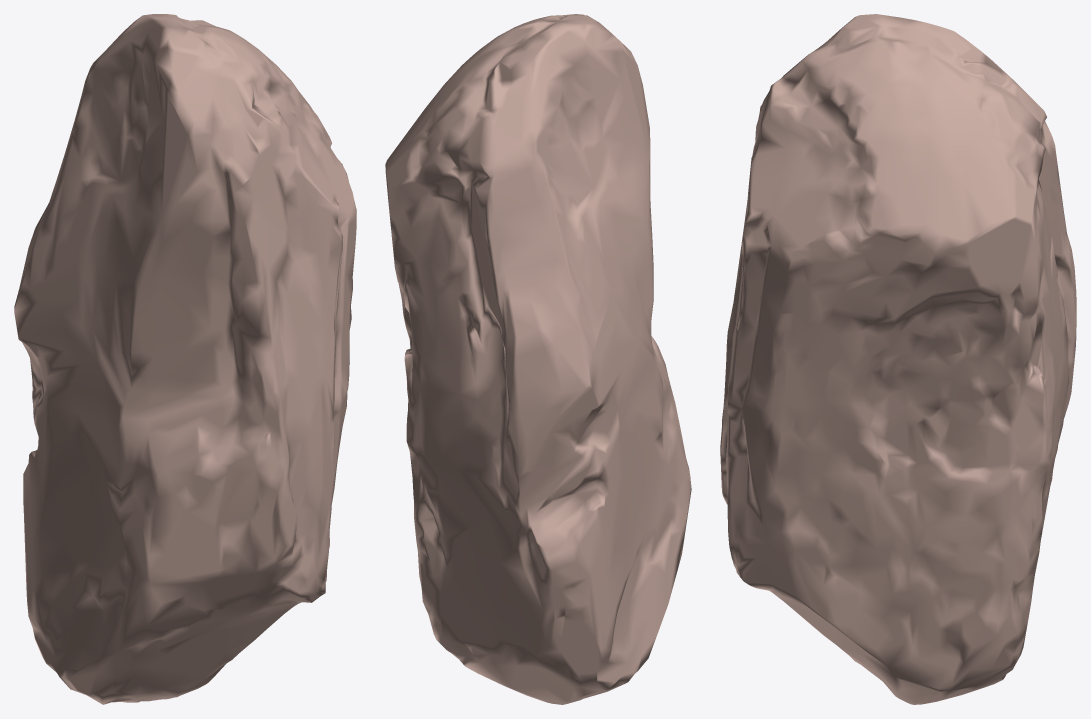
Rendered from rock-4.glb.
3 views of the same model, side by side, from view 1: azimuth 30°, elevation 25°; view 2: azimuth 150°, elevation 25°; view 3: azimuth 270°, elevation 25° (orthographic). The views are drawn at different scales.
Visible parts, largest first — view 1: rock-4; view 2: rock-4; view 3: rock-4.
Part boxes in pixels (x1,y1,x2,y2): rock-4: (14, 14, 356, 704); rock-4: (385, 14, 691, 704); rock-4: (720, 14, 1076, 704).
Size of the model in its own units: 0.2063 by 0.55 by 0.2613.
